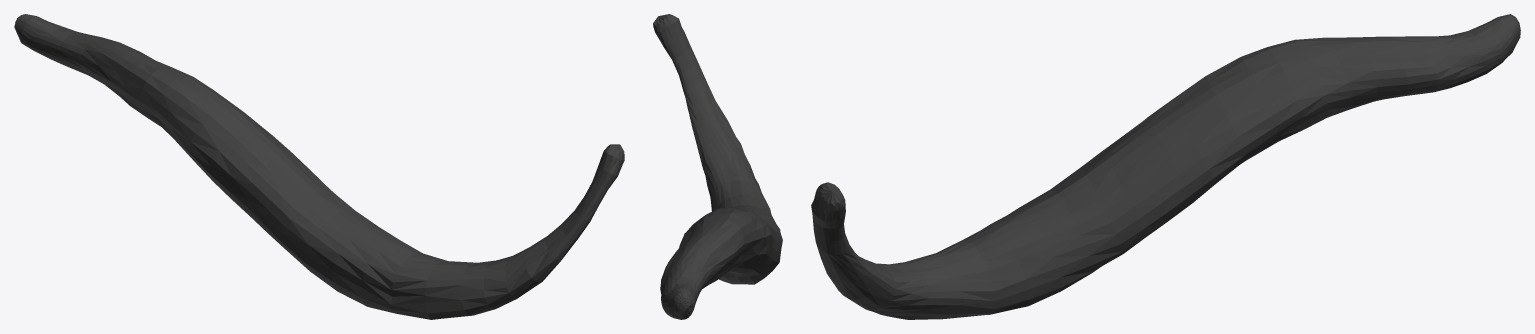
Rendered from Coracobrachialis_1.glb.
3 renders of one model, left to right at view 1: azimuth 30°, elevation 25°; view 2: azimuth 150°, elevation 25°; view 3: azimuth 270°, elevation 25°, orthographic. The views are drawn at different scales.
Parts seen in each view (by area): view 1: Coracobrachialis_1; view 2: Coracobrachialis_1; view 3: Coracobrachialis_1.
Boxes of the visible parts, x1=… form: Coracobrachialis_1: x1=14, y1=14, x2=624, y2=319; Coracobrachialis_1: x1=653, y1=14, x2=782, y2=319; Coracobrachialis_1: x1=811, y1=14, x2=1520, y2=319.
Bounding box in the file's own units: 0.00879 × 0.0046 × 0.014.
Materials: 1 (1 with a texture image).
